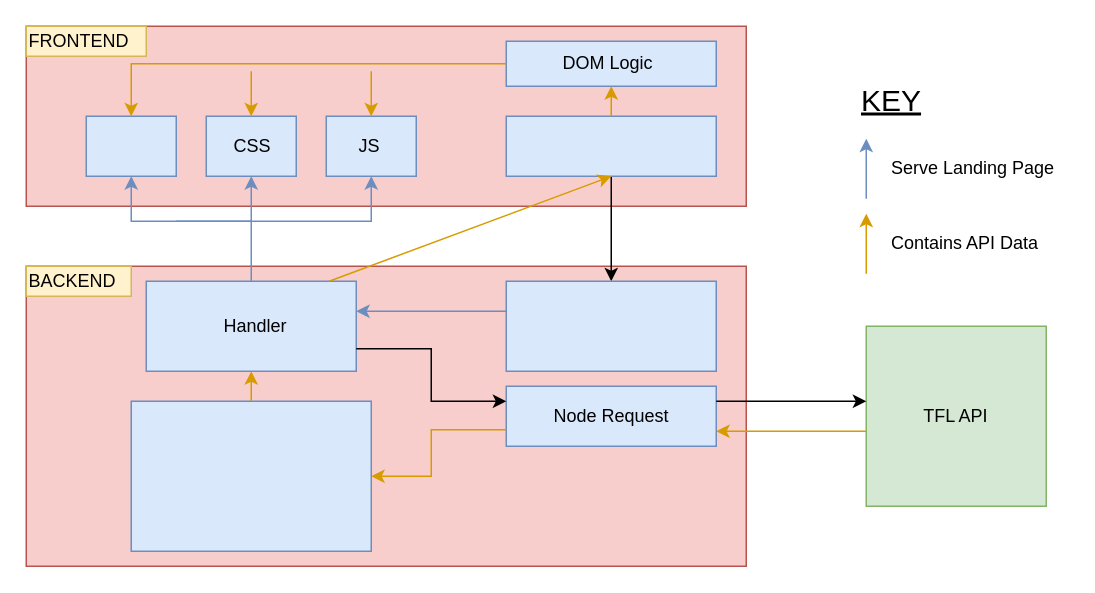
The diagram is 1095 pixels wide and 593 high, and some of its shapes have lost their labels. Here are the shapes that lost their labels. From the top down, the centre of each, then its label:
At point (130, 145): "HTML".
At point (610, 145): "XHR Request".
At point (610, 325): "Router".
At point (250, 475): "Logic".
